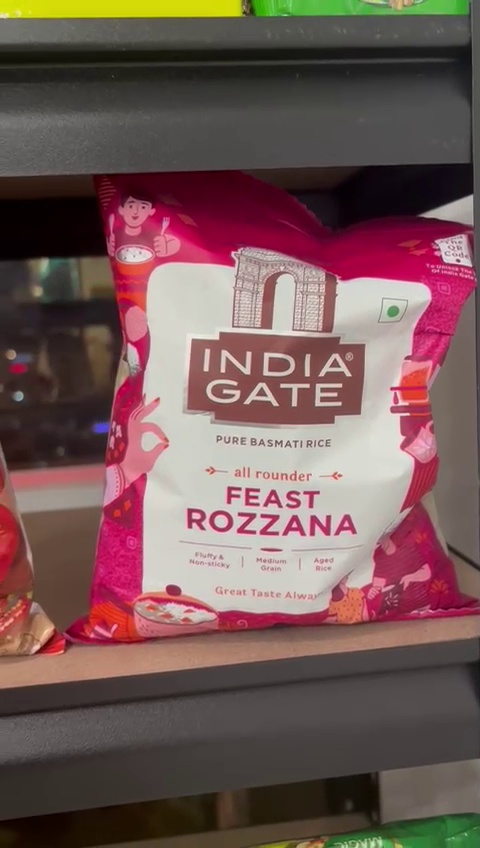India Gate Feast Rozzana: (99, 188, 470, 622)
